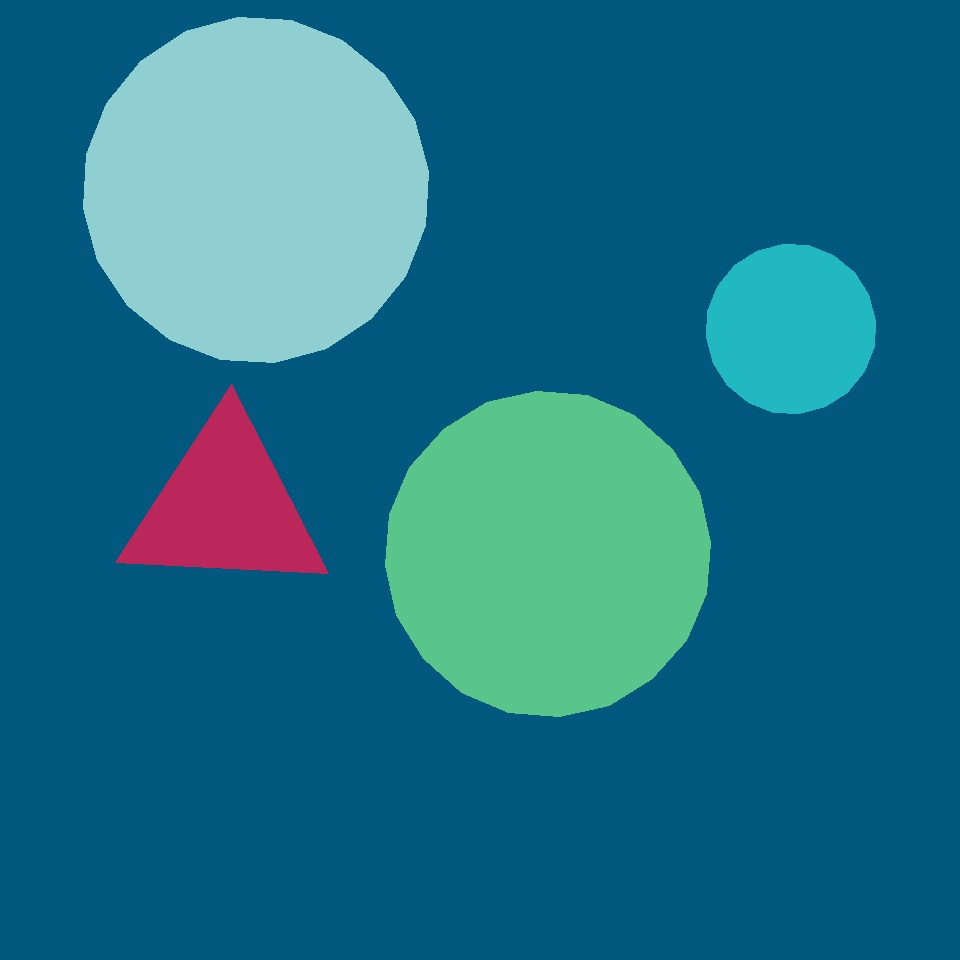circle: (464, 498, 673, 708), (118, 412, 332, 601), (568, 516, 745, 671), (589, 132, 708, 240)
square: (446, 523, 802, 878)
triangle: (293, 199, 640, 546), (84, 17, 428, 362), (385, 391, 710, 716), (684, 780, 855, 951), (706, 244, 876, 414)
